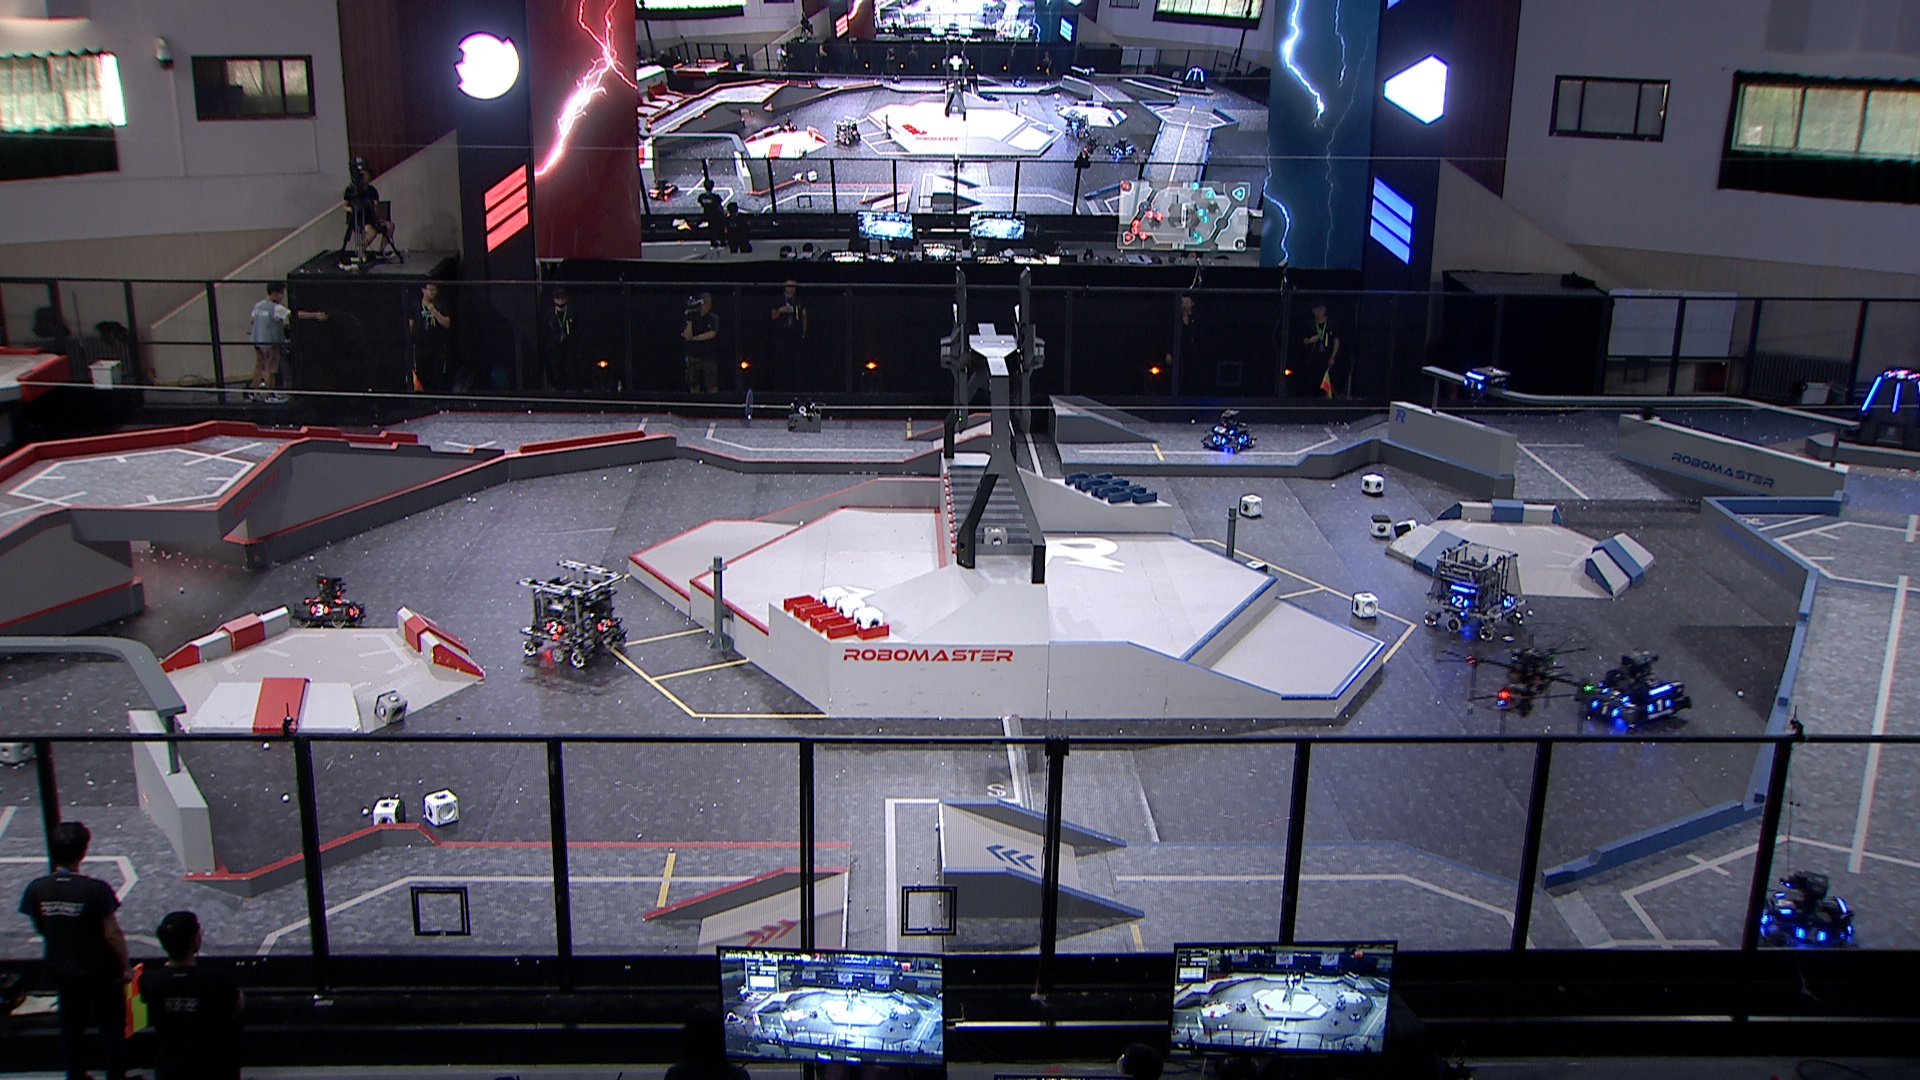armor: (1859, 375, 1884, 411), (1588, 698, 1621, 719), (1774, 891, 1797, 918), (1793, 926, 1826, 944), (1600, 687, 1629, 704), (1644, 699, 1675, 713), (1888, 381, 1902, 414), (543, 618, 564, 636), (310, 600, 330, 617), (1448, 593, 1470, 608), (595, 616, 613, 633), (1461, 377, 1482, 392), (1501, 593, 1516, 608), (1212, 427, 1236, 436), (330, 595, 349, 605), (348, 603, 361, 618), (1237, 433, 1251, 444), (1211, 436, 1228, 446)
base: (1836, 367, 1920, 455)
car: (513, 559, 628, 671), (1423, 534, 1527, 638), (1575, 647, 1695, 731), (1743, 872, 1855, 953), (289, 570, 371, 628), (1200, 407, 1255, 454)
ignore: (1063, 112, 1095, 138), (1178, 65, 1211, 90), (646, 174, 676, 200), (1105, 138, 1135, 164), (832, 120, 860, 144), (1884, 371, 1915, 382)
watcher: (1458, 361, 1510, 415)
